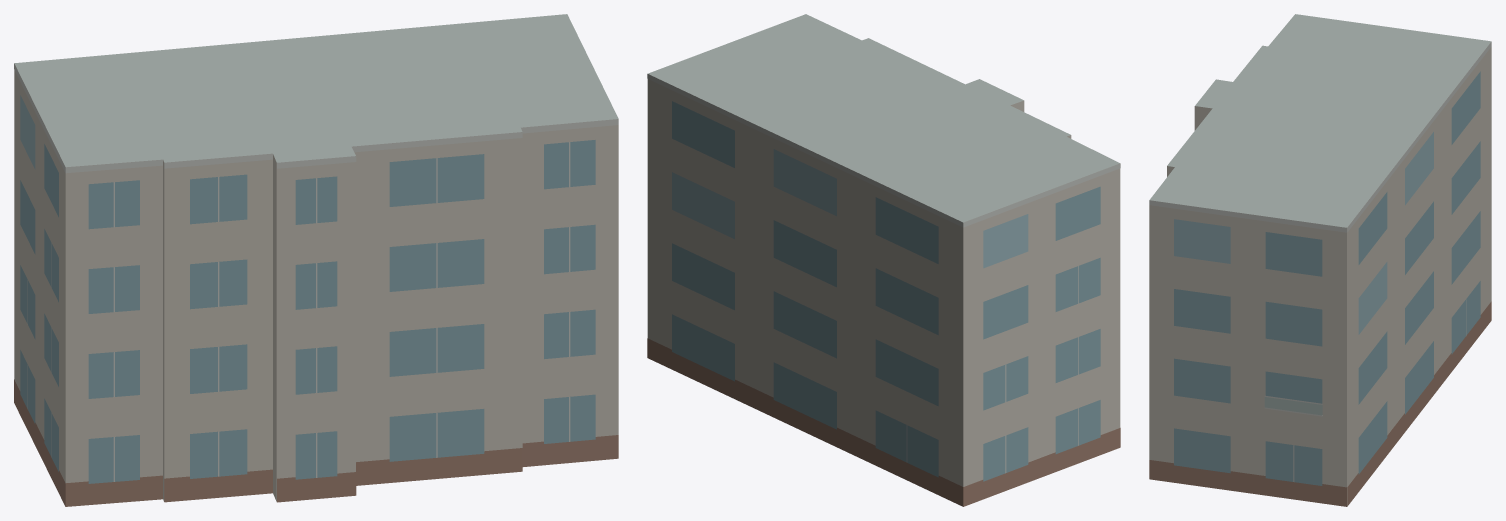
File: survey-upis-32672347.glb
The picture shows the model from 3 angles, left to right: view 1: azimuth 30°, elevation 25°; view 2: azimuth 150°, elevation 25°; view 3: azimuth 270°, elevation 25°; orthographic projection. The views are drawn at different scales.
Visible parts, largest first — view 1: survey-upis-32672347.tmp; view 2: survey-upis-32672347.tmp; view 3: survey-upis-32672347.tmp.
Part boxes in pixels (x1=…): survey-upis-32672347.tmp: x1=14, y1=14, x2=618, y2=506; survey-upis-32672347.tmp: x1=647, y1=14, x2=1120, y2=506; survey-upis-32672347.tmp: x1=1149, y1=14, x2=1491, y2=506.
Size of the model in its own units: 22.69 by 13.8 by 15.35.
